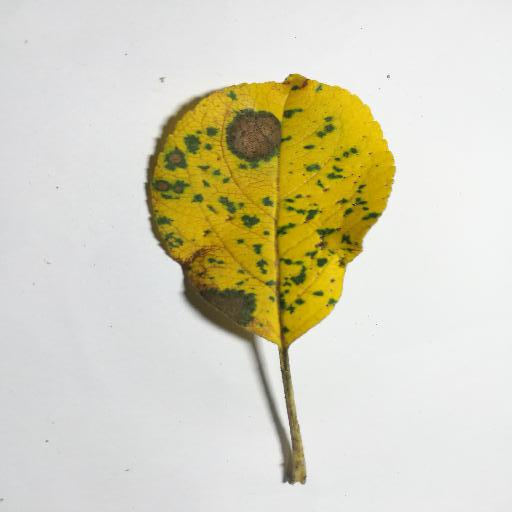Brown_Spot: (229, 116, 289, 155), (201, 287, 260, 324), (185, 251, 214, 274), (156, 180, 189, 195), (168, 151, 182, 163)
